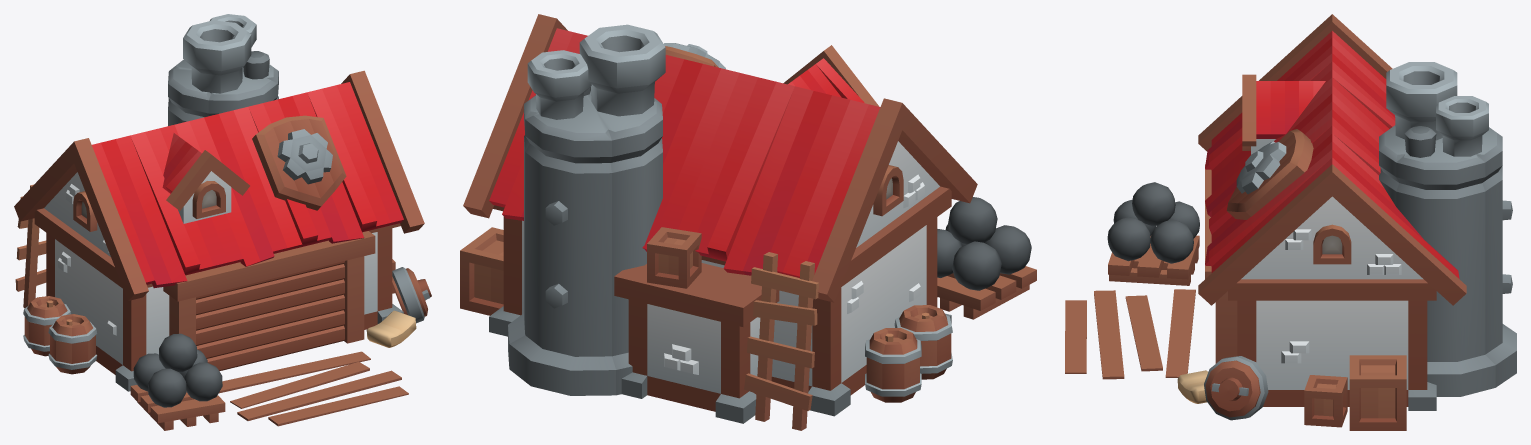
The model's file is workshop.glb.
The picture shows the model from 3 angles, left to right: view 1: azimuth 30°, elevation 25°; view 2: azimuth 150°, elevation 25°; view 3: azimuth 270°, elevation 25°; orthographic projection. The views are drawn at different scales.
Parts seen in each view (by area): view 1: workshop; view 2: workshop; view 3: workshop.
Part boxes in pixels (x1,y1,x2,y2): workshop: (14, 14, 431, 430); workshop: (460, 14, 1036, 430); workshop: (1065, 14, 1516, 430).
Bounding box in the file's own units: 0.8327 × 0.5768 × 0.8336.
Materials: 1 (1 with a texture image).
